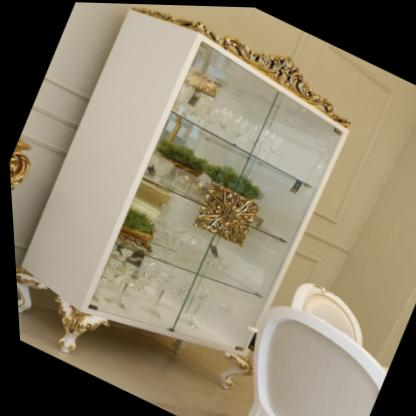Cupboard: (0, 0, 377, 416)
